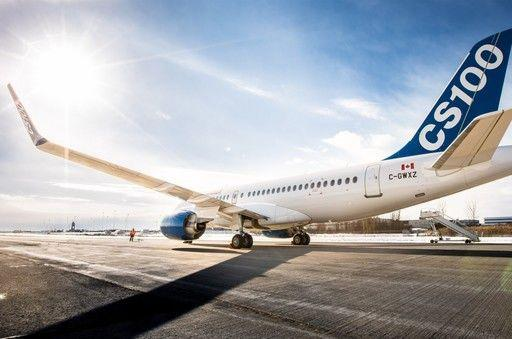airplane: (1, 26, 512, 248)
